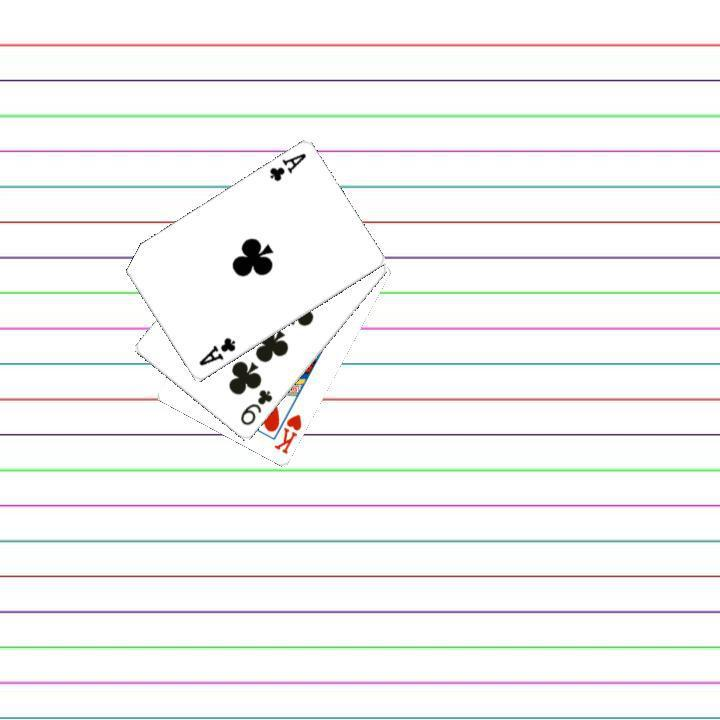9: (236, 385, 275, 428)
A: (194, 333, 238, 368), (265, 149, 308, 184)
K: (270, 410, 304, 456)
